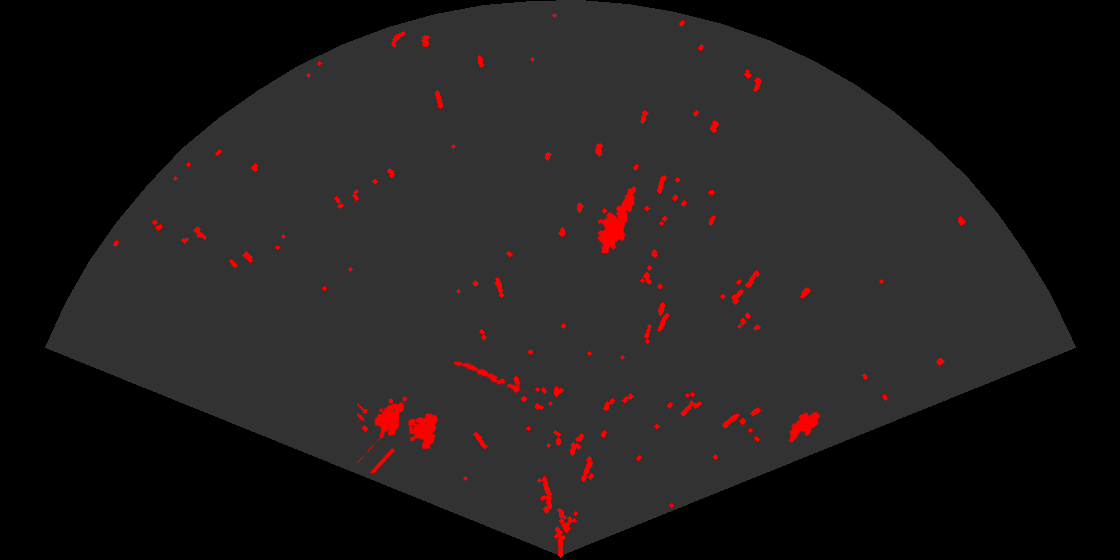AUV: (787, 410, 822, 445)
cage: (357, 395, 439, 473)
chain: (451, 360, 527, 396)
frogman: (596, 185, 638, 253)
